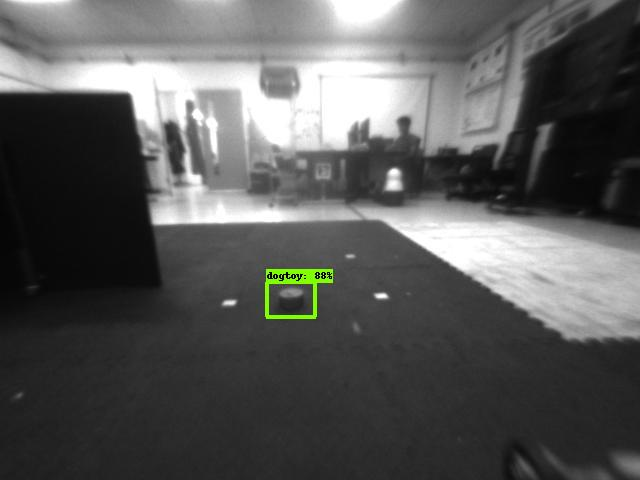dogtoy: (270, 283, 320, 313)
